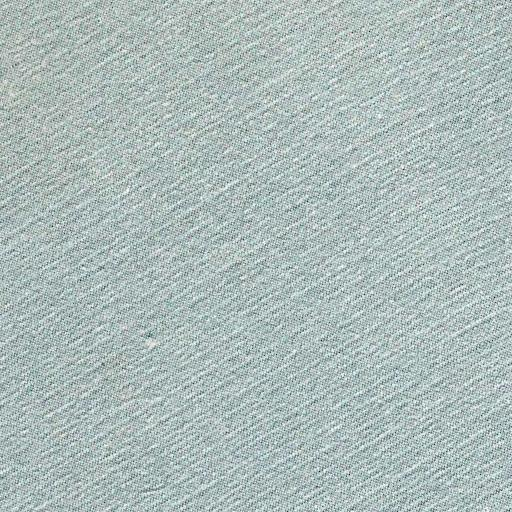knot: (137, 329, 170, 355)
